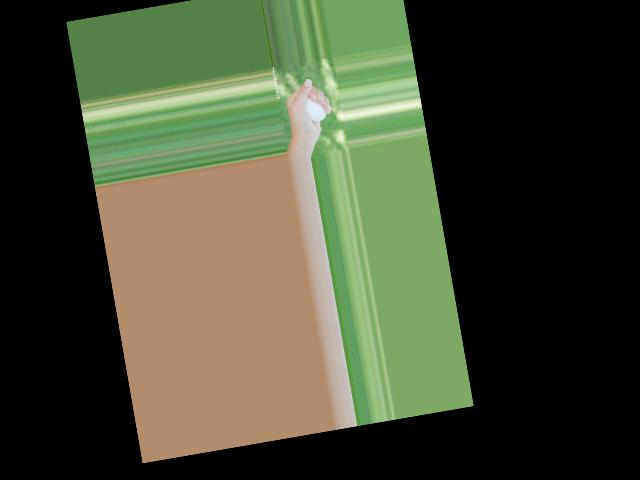egg: (303, 94, 327, 122)
